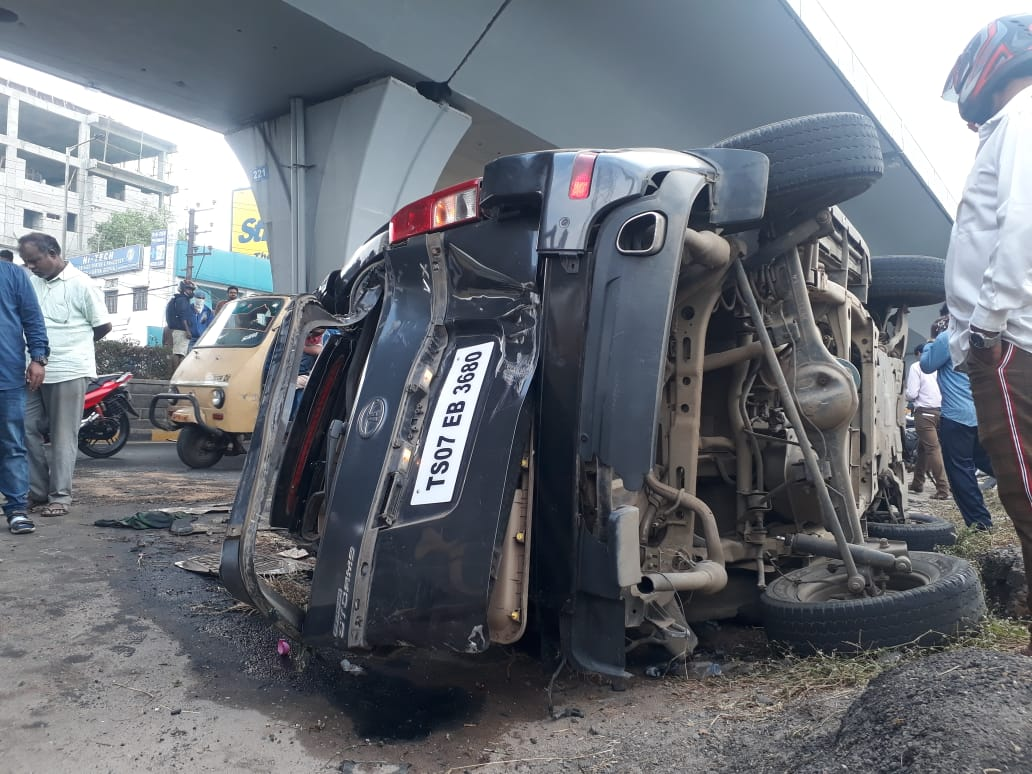accident: (227, 84, 958, 743)
